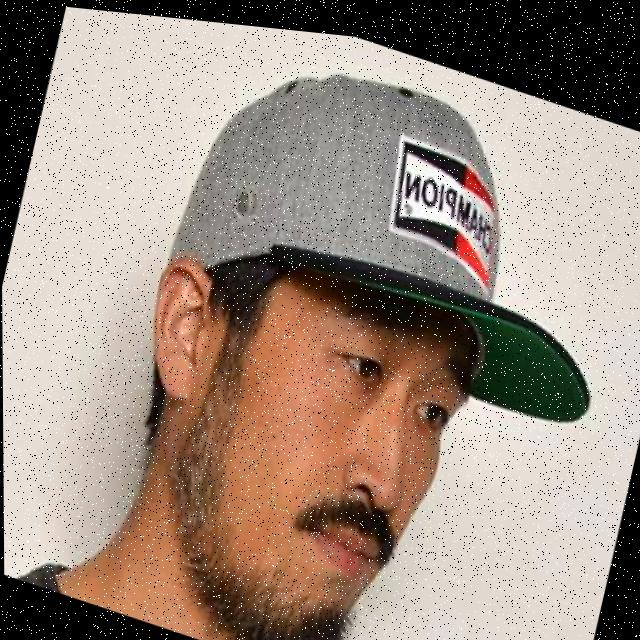illegal_helmet: (79, 6, 640, 640)
